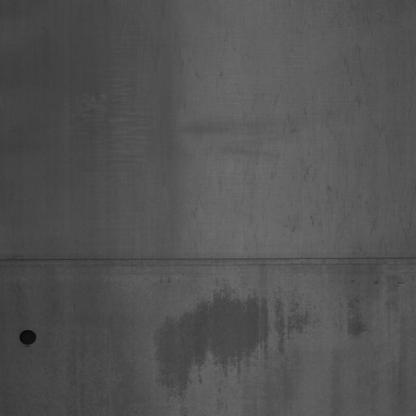oil_spot: (154, 291, 276, 391)
punching_hole: (18, 324, 38, 351)
welding_line: (2, 241, 416, 278)
